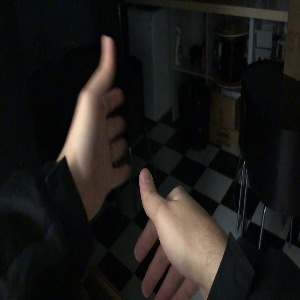hand: (134, 168, 225, 300), (65, 36, 129, 208)
